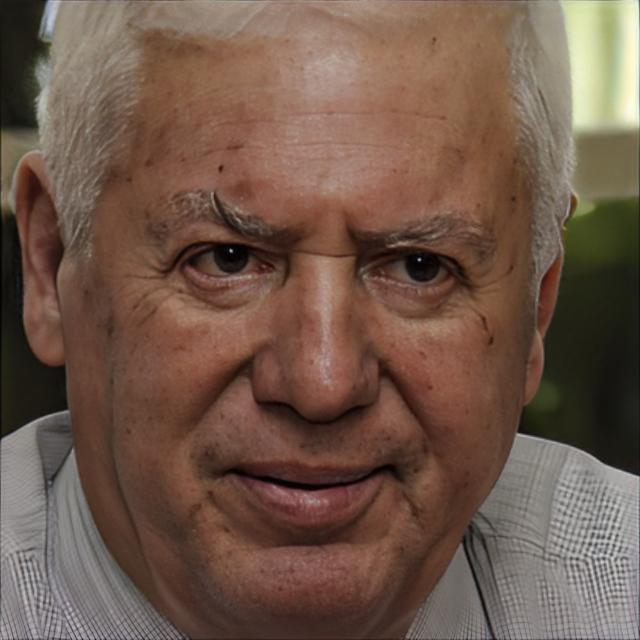anger: (94, 26, 538, 635)
